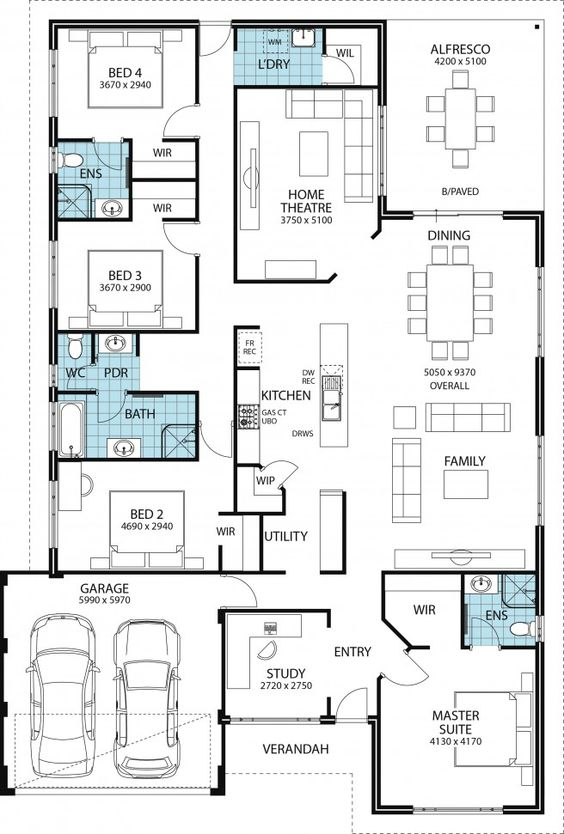door: (160, 101, 194, 138), (268, 449, 302, 486), (160, 220, 194, 257), (225, 573, 259, 608), (335, 682, 371, 714), (396, 657, 432, 689), (197, 27, 230, 60), (93, 140, 124, 175), (201, 428, 234, 460), (91, 396, 124, 428), (325, 55, 356, 84), (467, 614, 497, 642), (64, 363, 92, 390)
